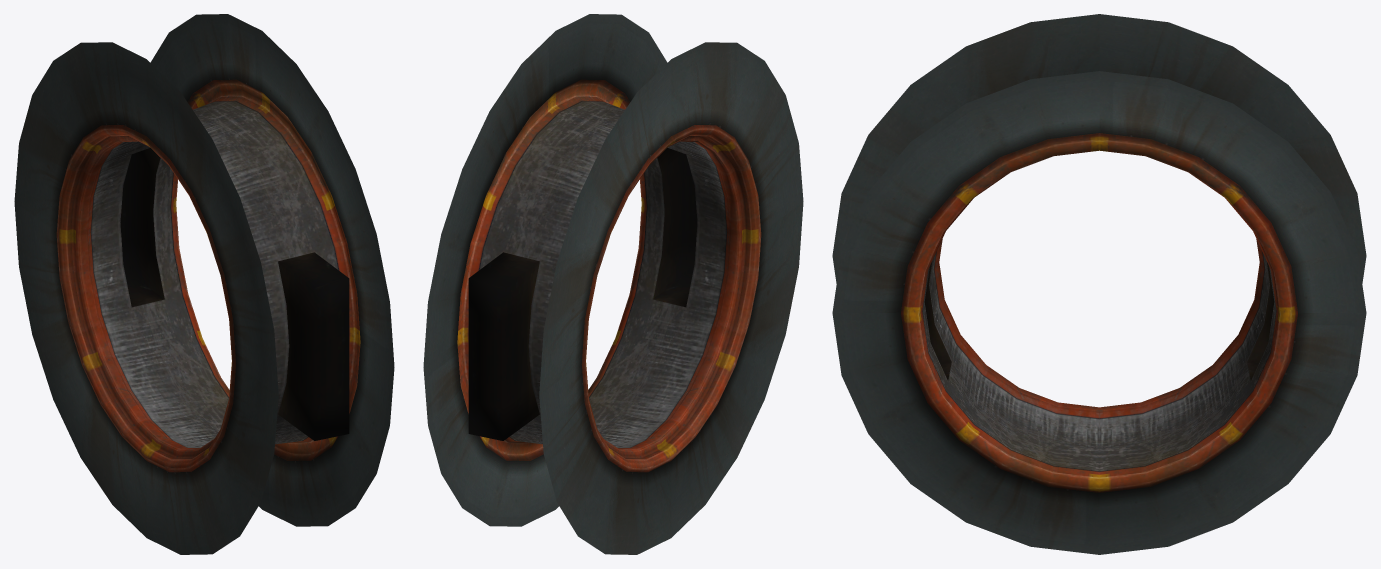
File: tau_tunnel_door_large_frame.dae
3 renders of one model, left to right at view 1: azimuth 30°, elevation 25°; view 2: azimuth 150°, elevation 25°; view 3: azimuth 270°, elevation 25°, orthographic.
Parts seen in each view (by area): view 1: polySurface669; view 2: polySurface669; view 3: polySurface669.
Boxes of the visible parts, x1,y1,x2,y2 form: polySurface669: [14, 14, 394, 554]; polySurface669: [423, 14, 803, 554]; polySurface669: [832, 14, 1366, 554].
Bounding box in the file's own units: 1.05 × 3.96 × 3.96.
